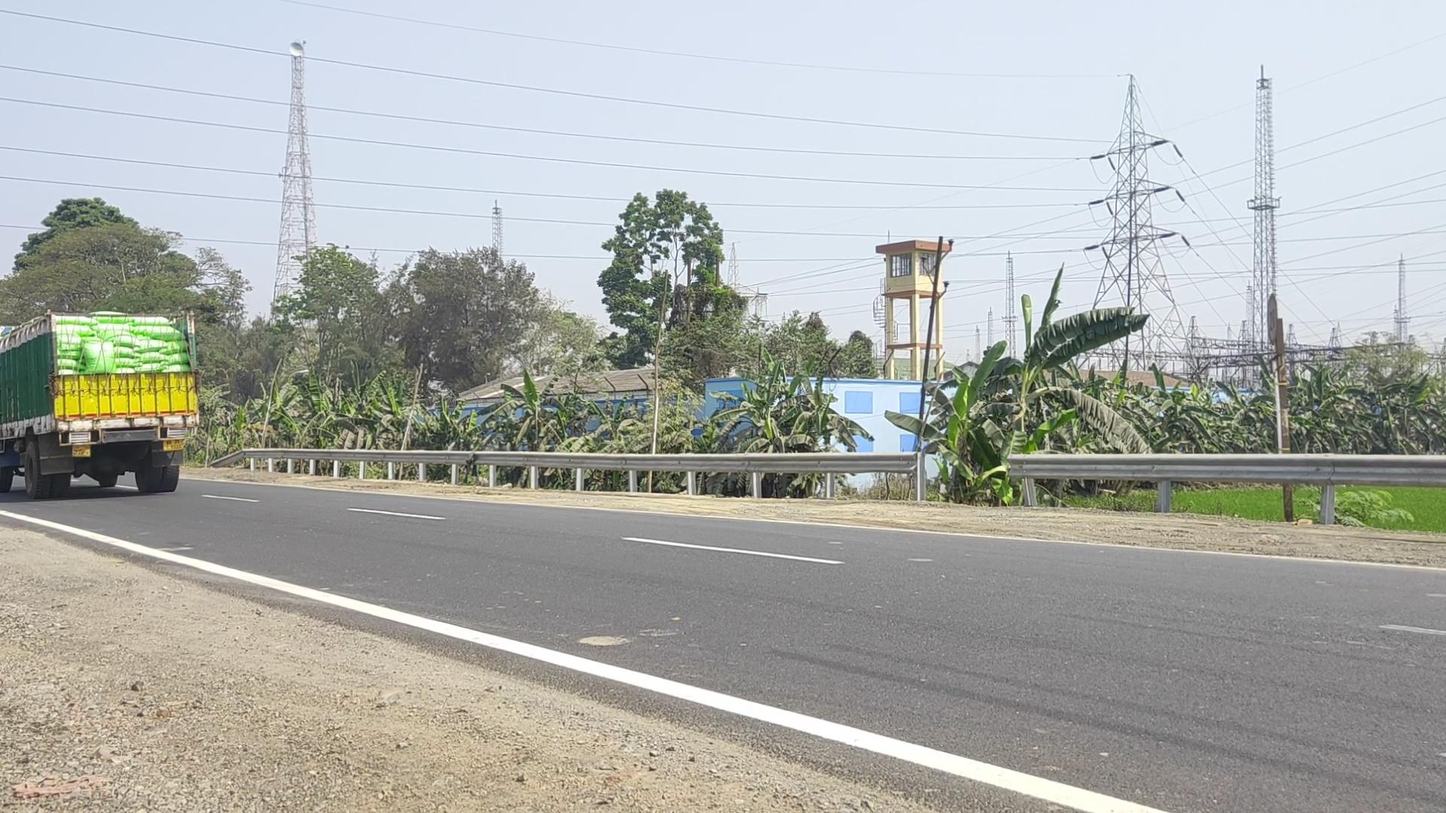truck: (1, 308, 199, 499)
